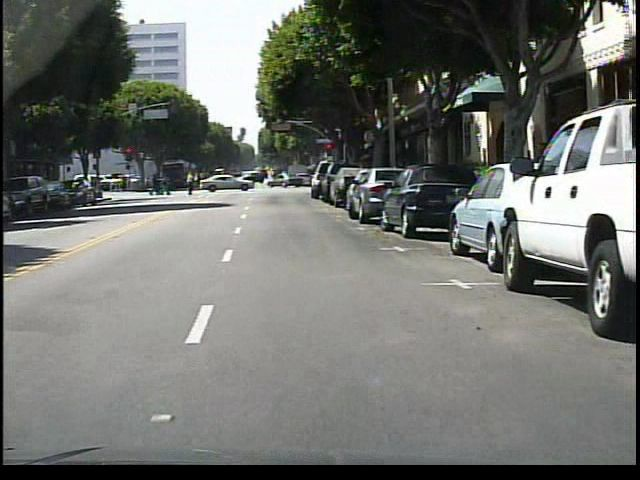person: (183, 167, 203, 196)
